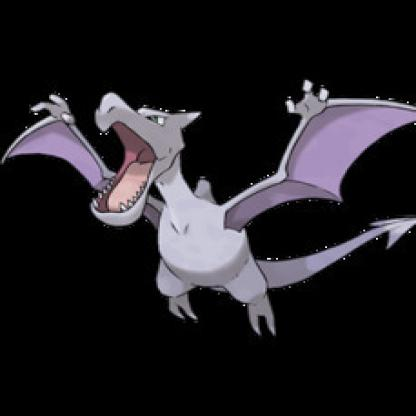Aerodactyl: (1, 86, 415, 342)
